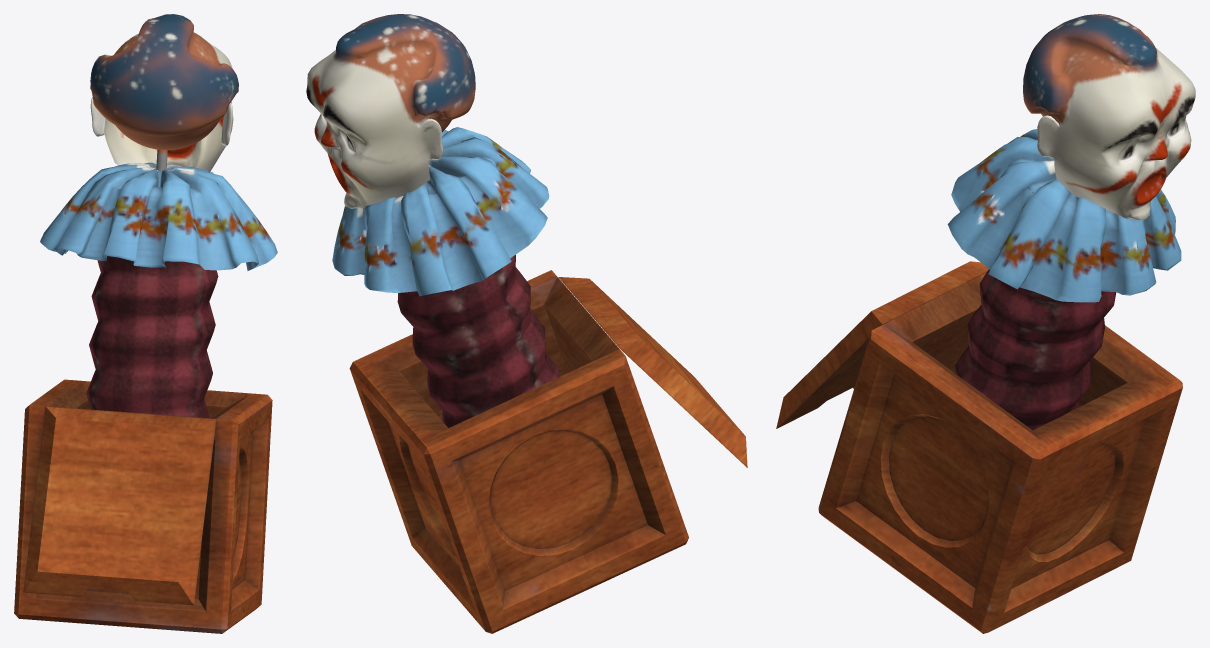
Rendered from t_jug_caja_payaso.glb.
The picture shows the model from 3 angles, left to right: view 1: azimuth 30°, elevation 25°; view 2: azimuth 150°, elevation 25°; view 3: azimuth 270°, elevation 25°; orthographic projection. The views are drawn at different scales.
Parts seen in each view (by area): view 1: defaultMaterial.002; view 2: defaultMaterial.002; view 3: defaultMaterial.002.
Boxes of the visible parts, <box> form: defaultMaterial.002: <box>14,14,277,633</box>; defaultMaterial.002: <box>306,14,747,633</box>; defaultMaterial.002: <box>776,14,1195,633</box>.
Bounding box in the file's own units: 0.2253 × 0.38 × 0.2434.
1 material, 1 textured.
